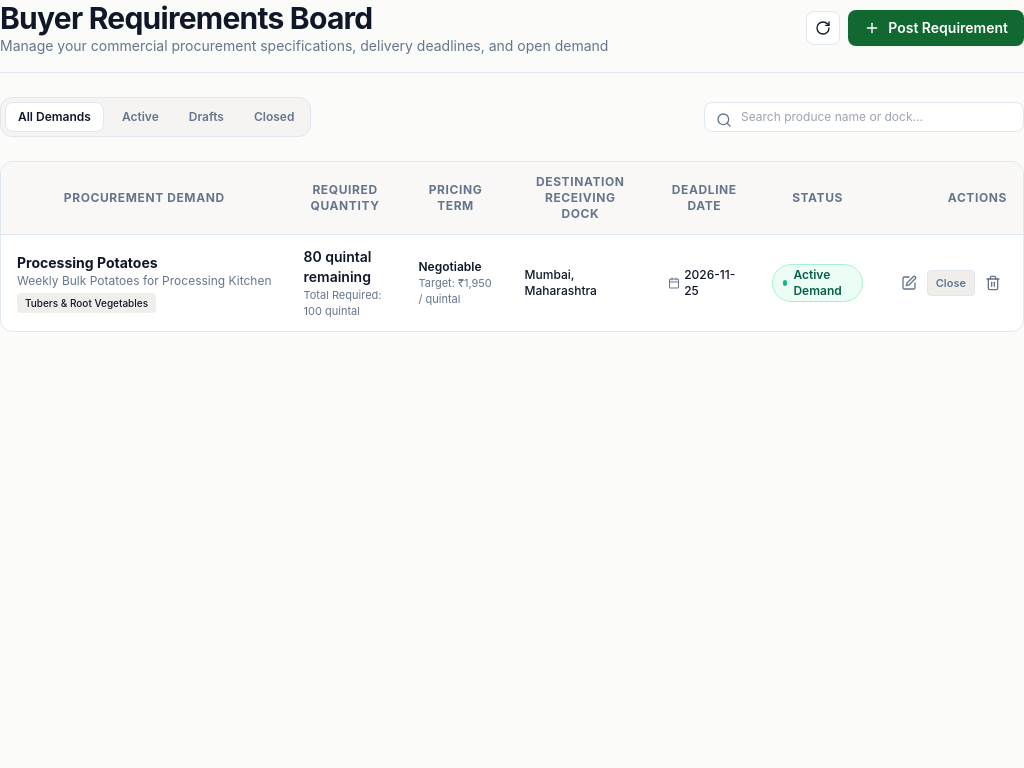
it: BuyerRequirementsPage › opens delete modal and confirms removal
Later steps or results of the test are not shown.
Expected: the text "Processing Potatoes" is shown, left=17, top=254, right=158, bottom=271
What coordinates should you click on to do the following:
click the button named "delete weekly bulk potatoes for processing kitchen"
I would click on:
 (993, 283)
Its box is left=979, top=269, right=1007, bottom=297.
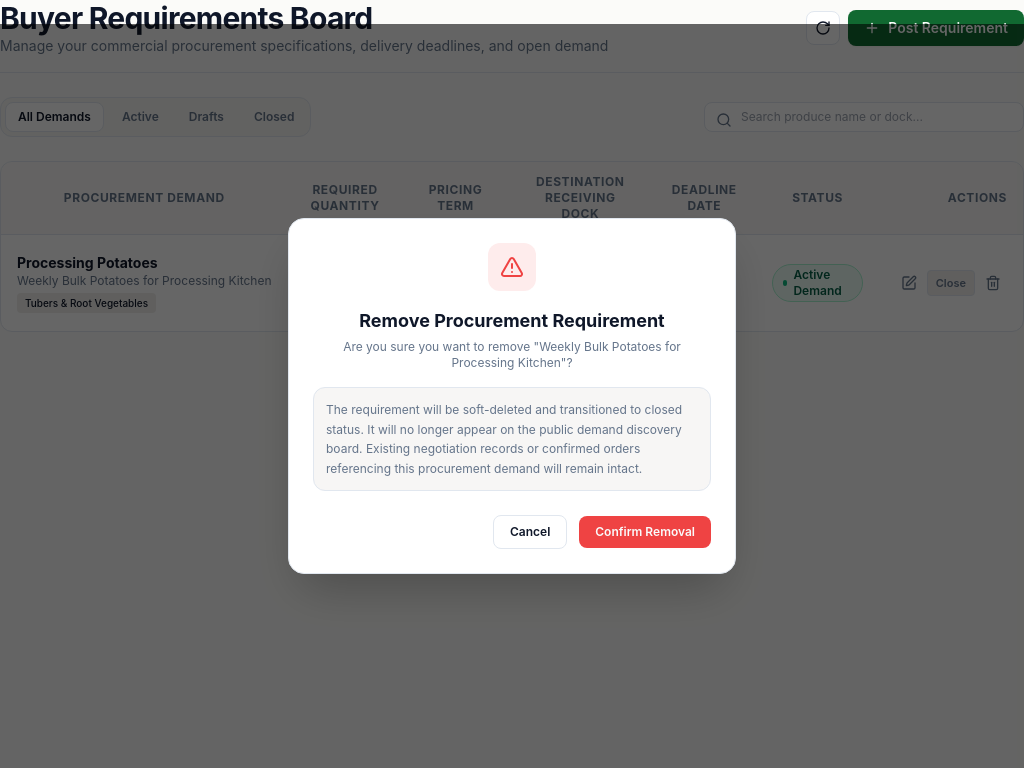
Result: the dialog "Remove Procurement Requirement" is shown
